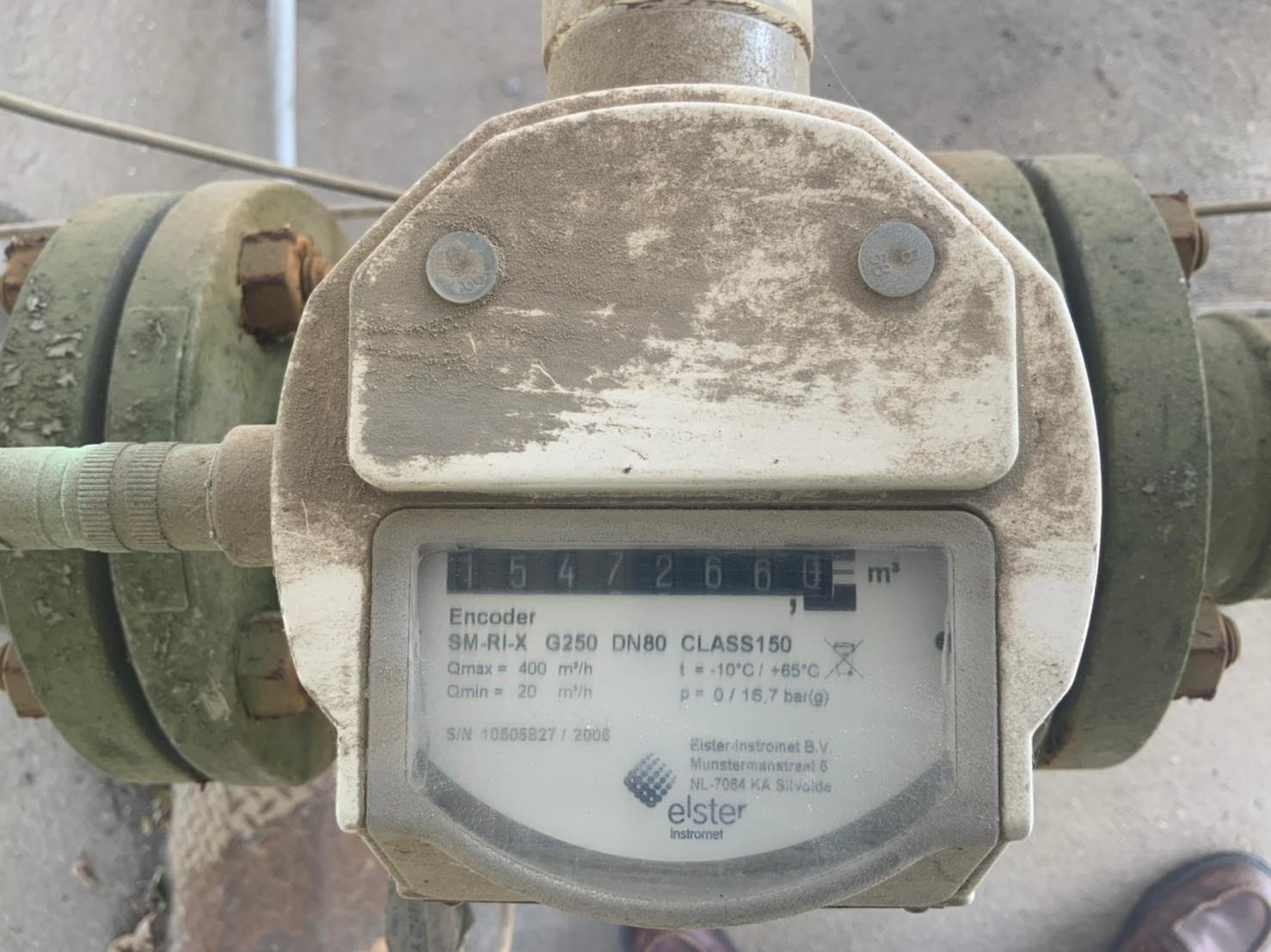analog_dial: (442, 536, 860, 615)
